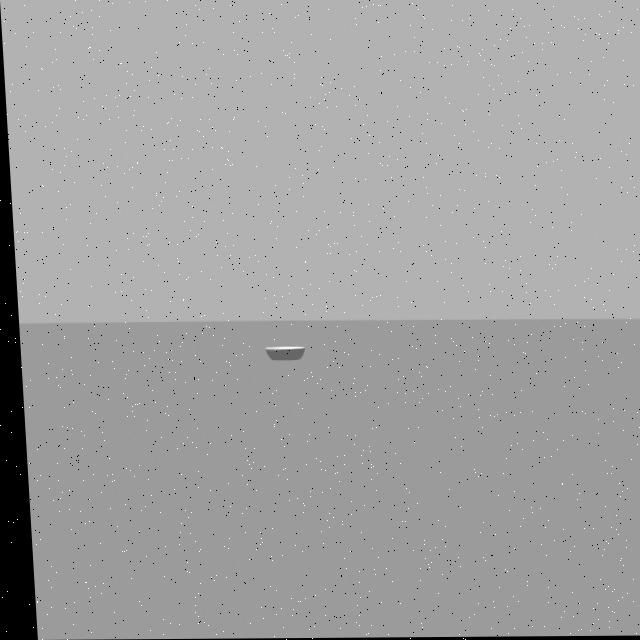bowl: (260, 327, 315, 383)
